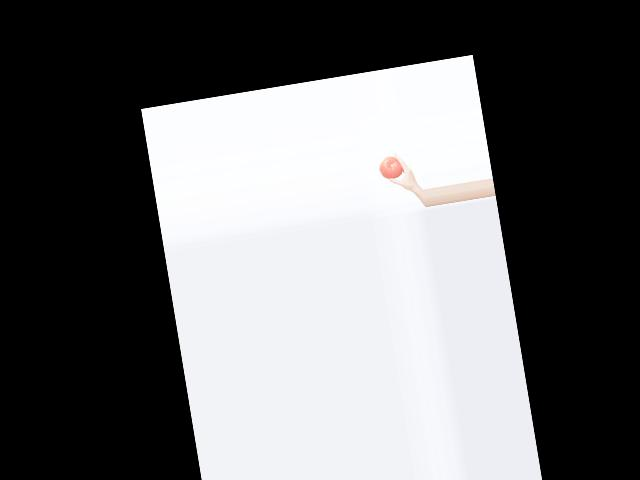tomato: (378, 154, 403, 180)
